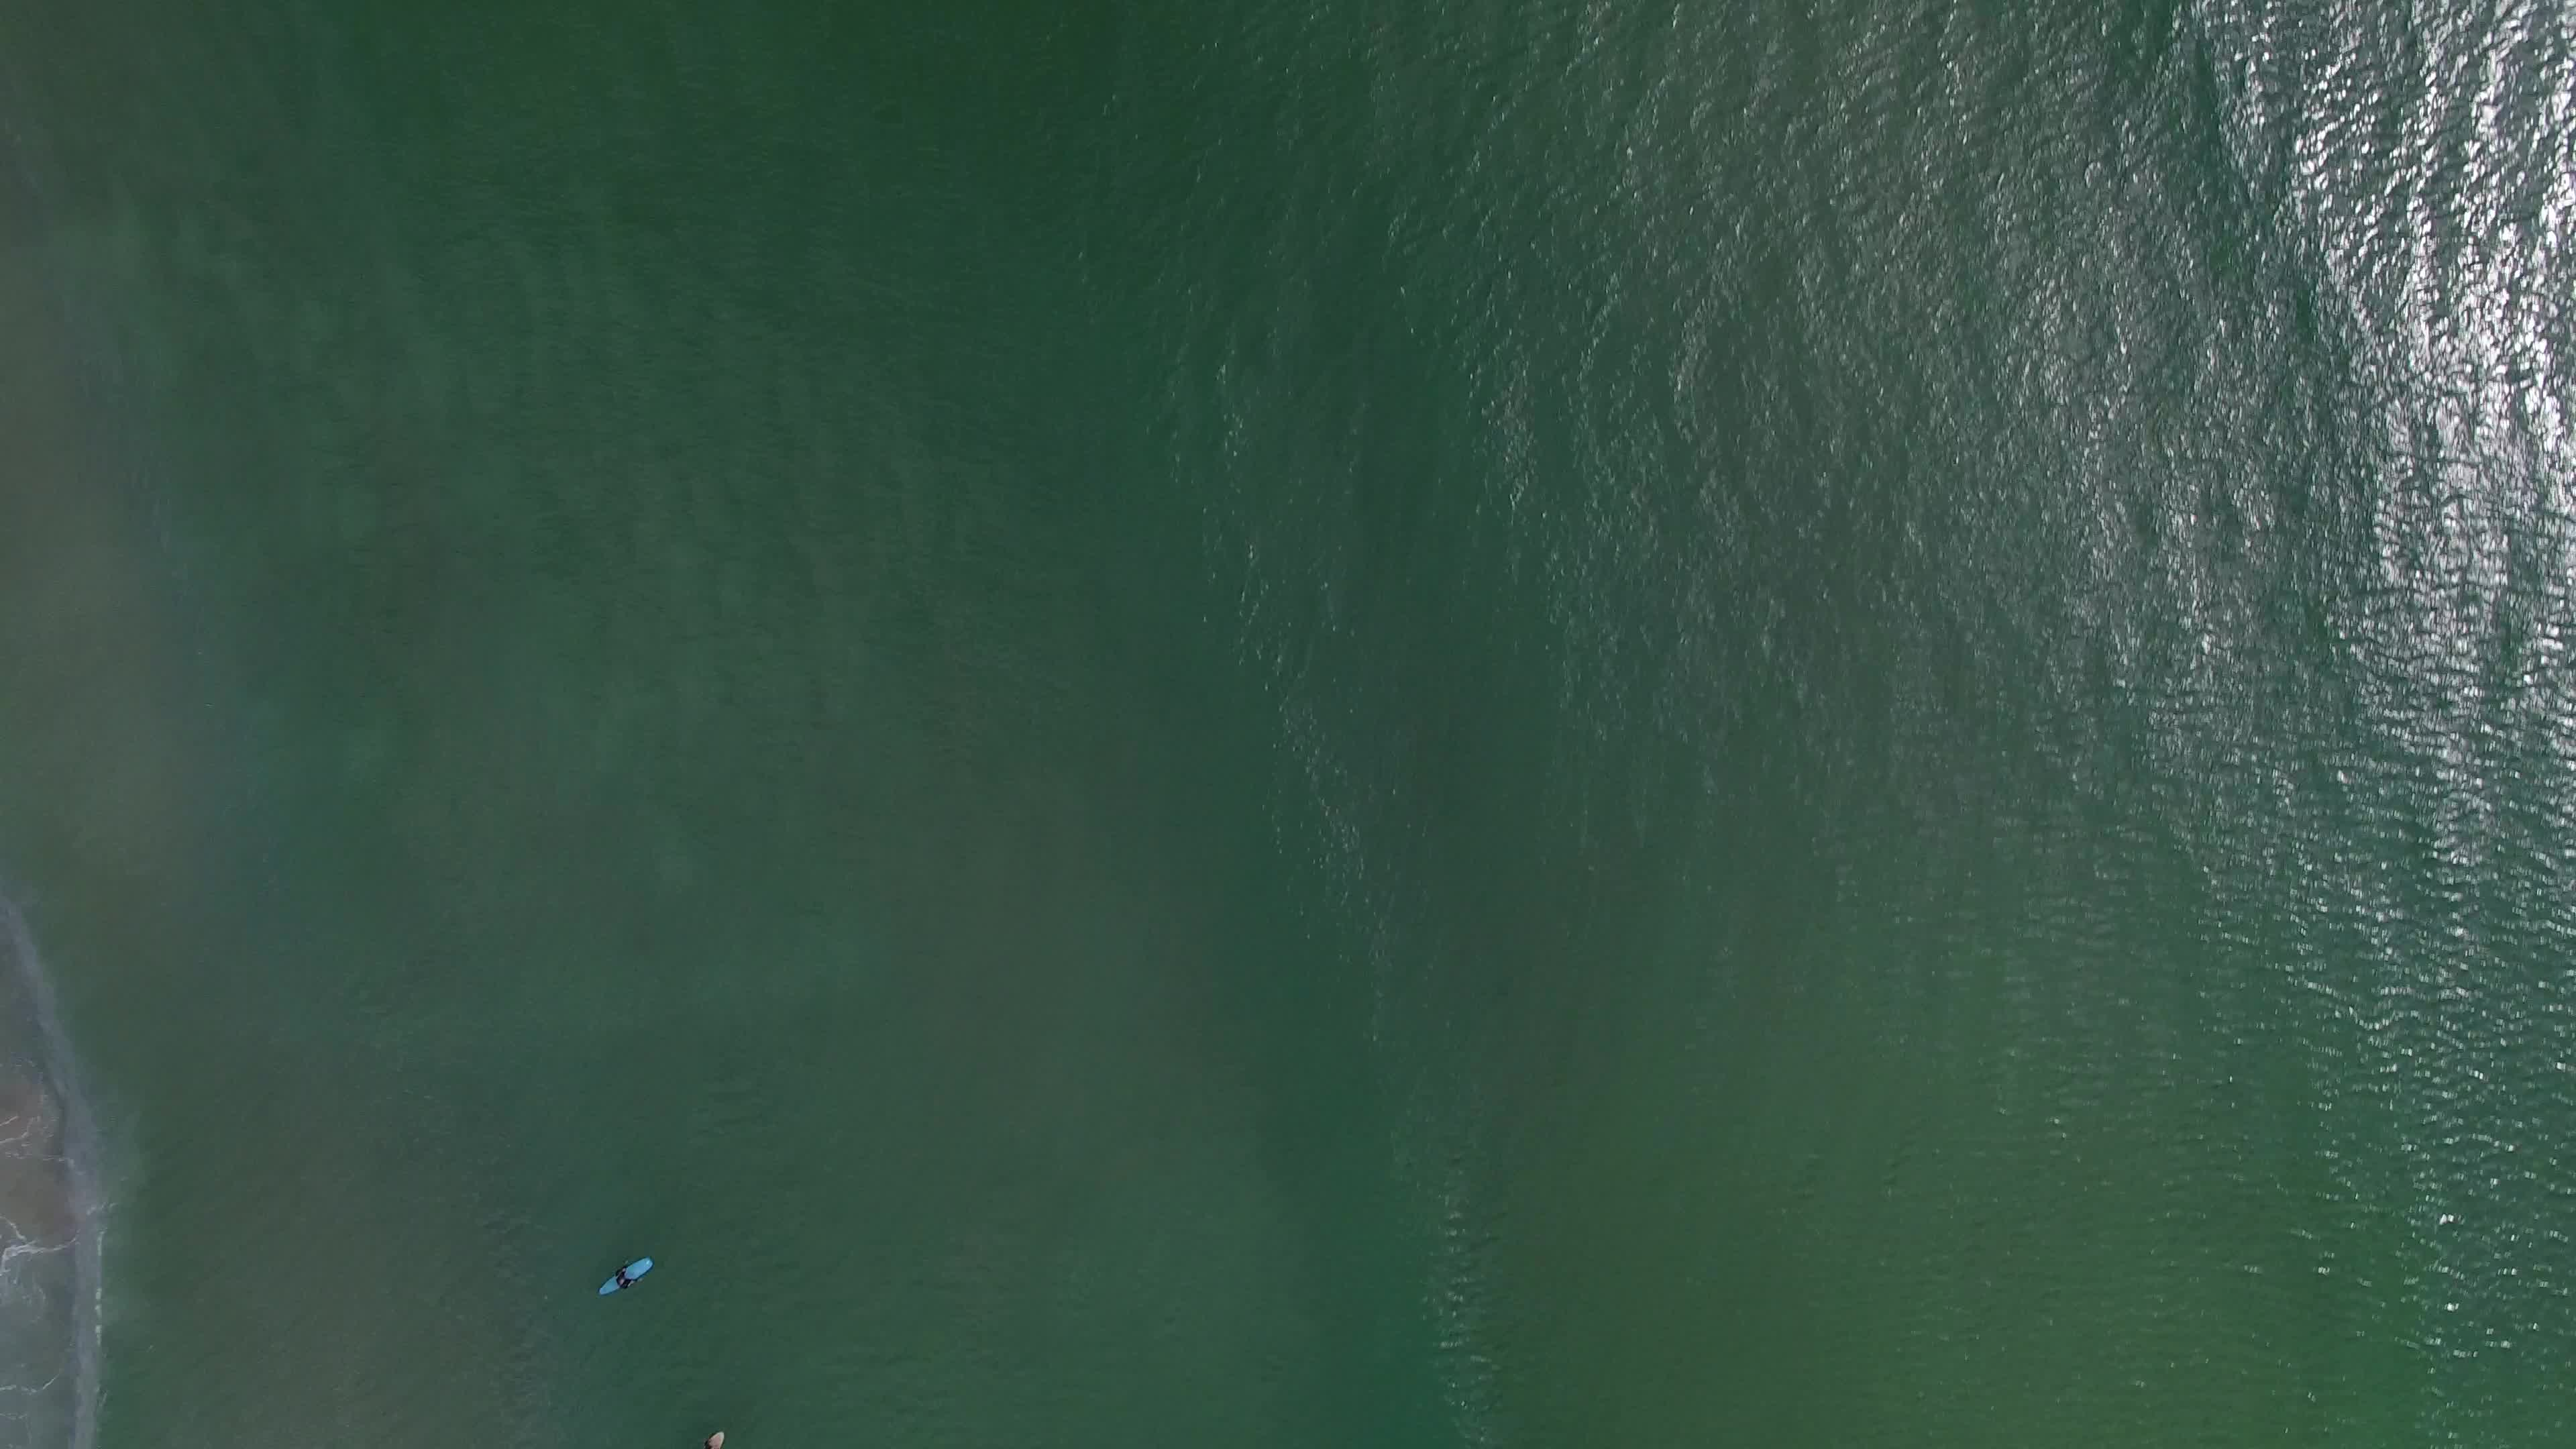surfer: (594, 1246, 656, 1311), (697, 1419, 740, 1449)
